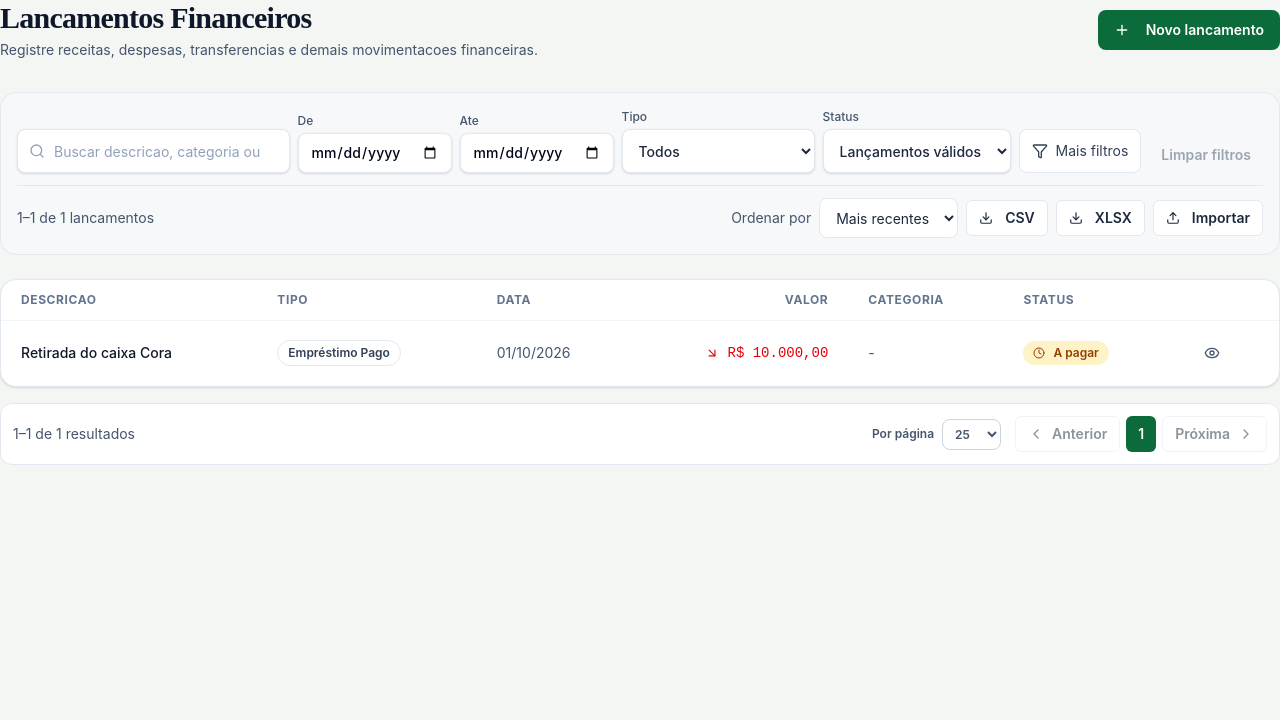
Scenario: TransactionsPage pending edit and action eligibility › nao mostra Receber/Pagar para amortizacao e nao oferece edicao destrutiva de liquidado
Click the text "Retirada do caixa Cora" at coordinates (129, 353), box top-left (1, 320), bottom-right (257, 386)
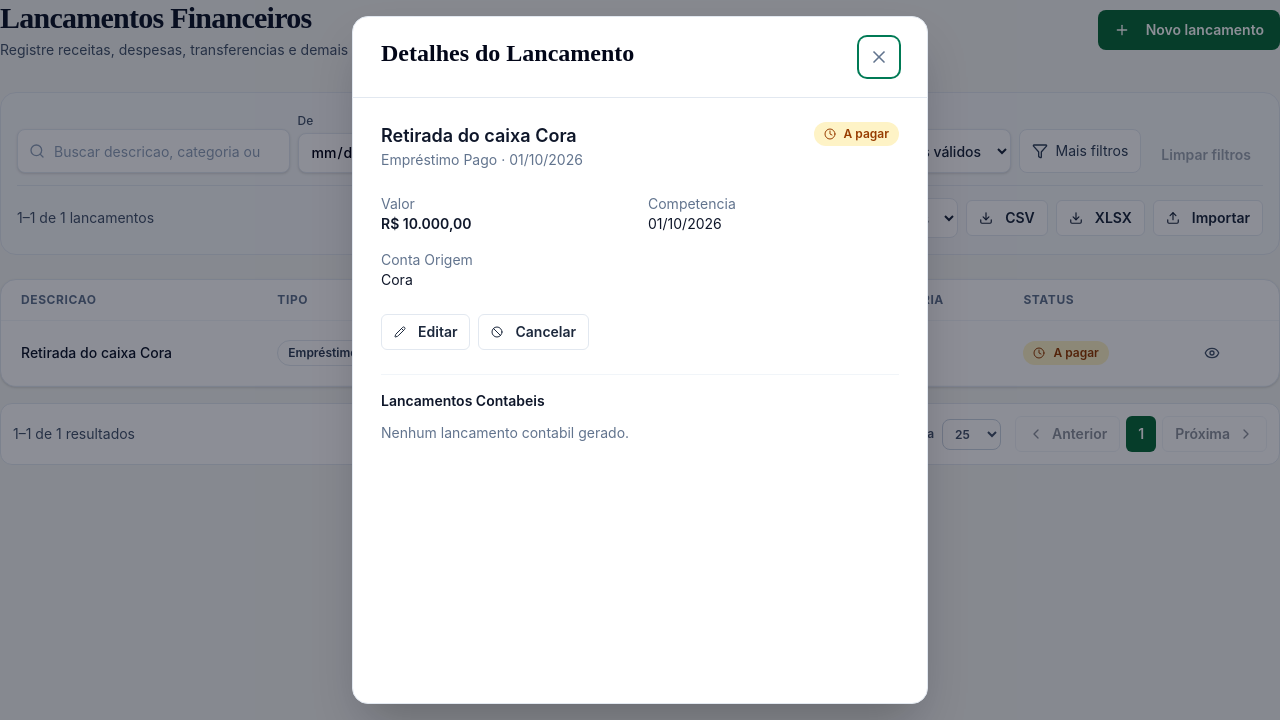
expect the heading "Detalhes do Lancamento" is shown: met, box top-left (381, 40), bottom-right (634, 66)
expect the button "Editar" is shown: met, box top-left (381, 314), bottom-right (470, 350)
Click the button named "Fechar painel" at coordinates (879, 57), box top-left (859, 37), bottom-right (899, 77)
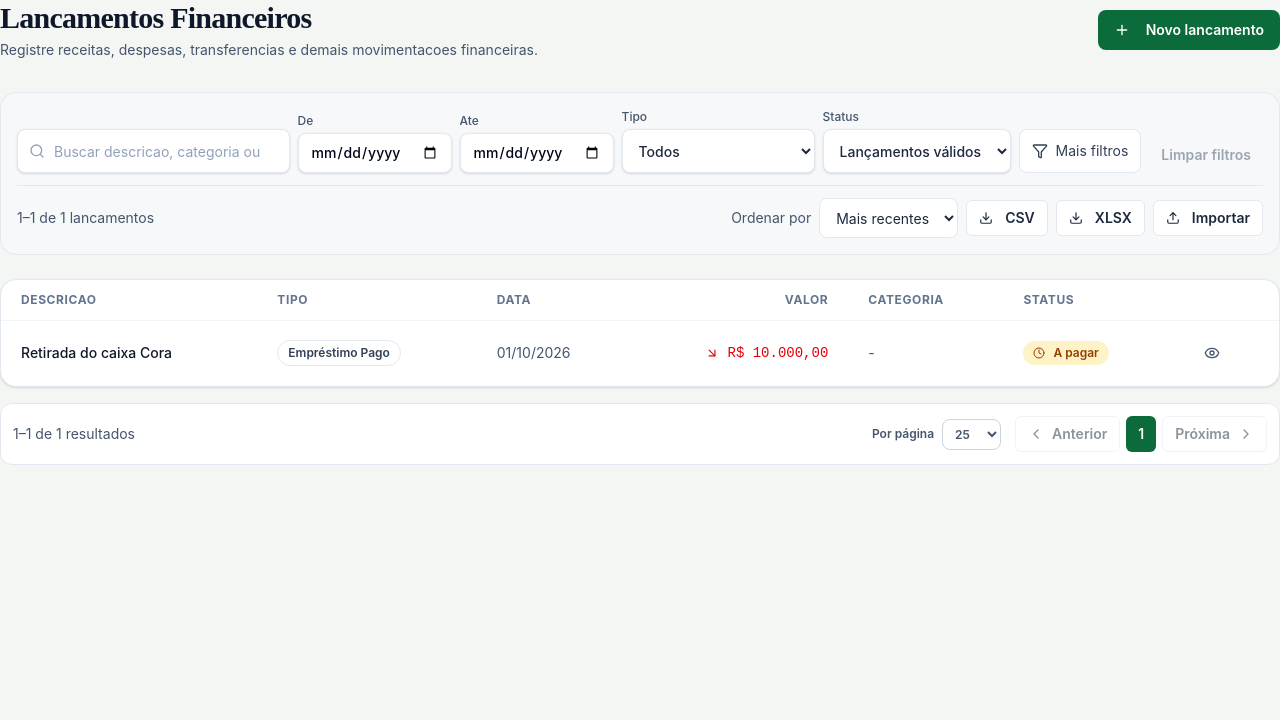
Click the text "Retirada do caixa Cora" at coordinates (129, 353), box top-left (1, 320), bottom-right (257, 386)
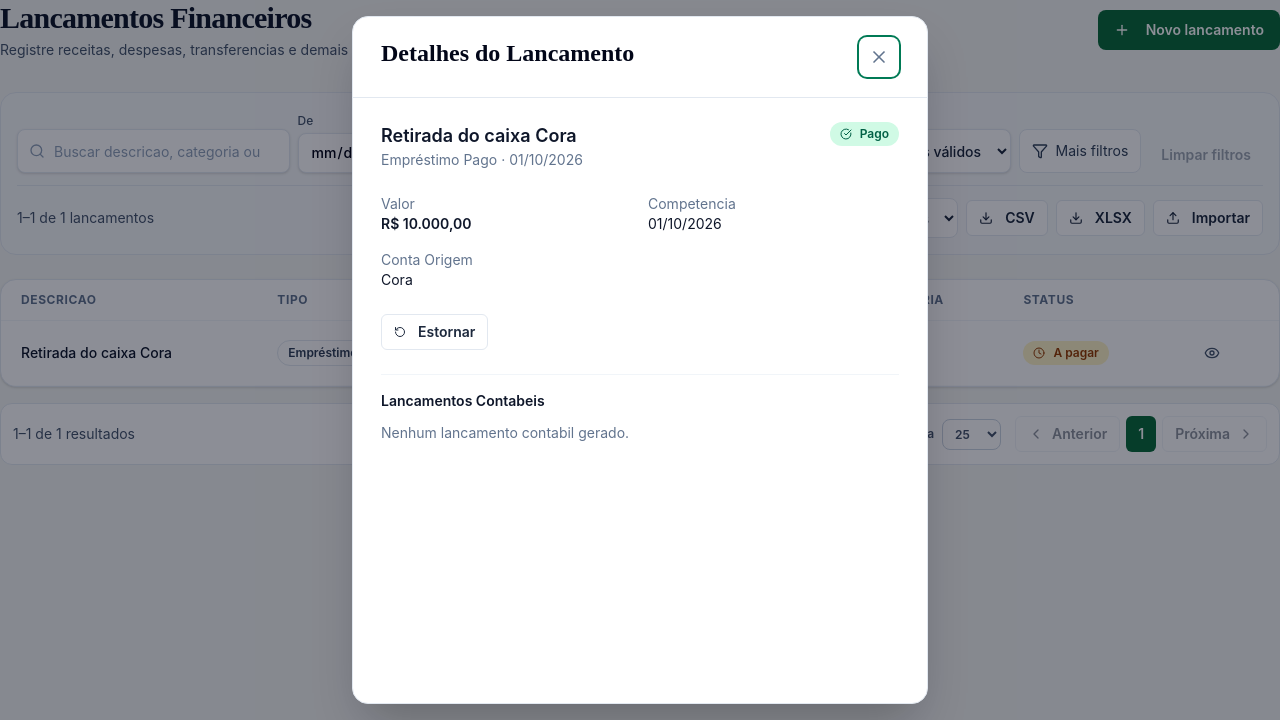
expect the button "Editar" is not shown: met
expect the button "Estornar" is shown: met, box top-left (381, 314), bottom-right (488, 350)
